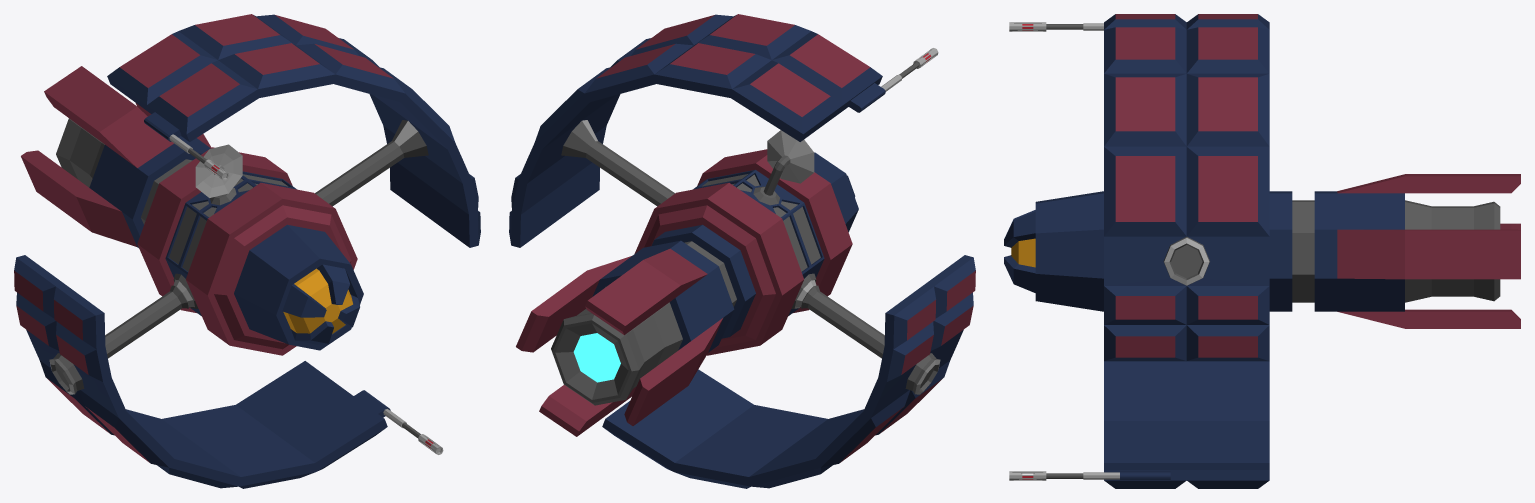
File: spship1.glb
3 views of the same model, side by side, from view 1: azimuth 30°, elevation 25°; view 2: azimuth 150°, elevation 25°; view 3: azimuth 270°, elevation 25° (orthographic). The views are drawn at different scales.
Size of the model in its own units: 0.6785 by 0.6709 by 0.7318.
